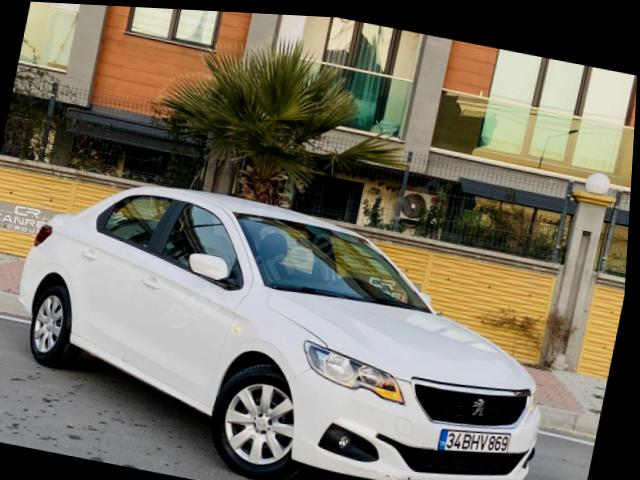plaka: (438, 430, 511, 453)
